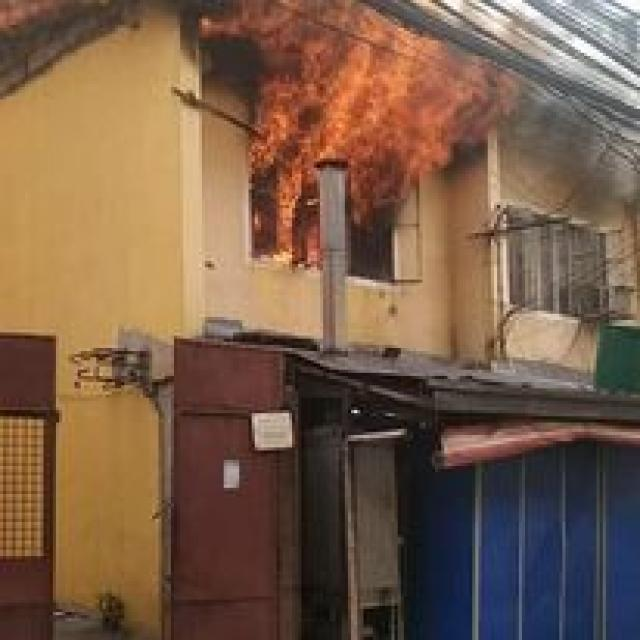Fire: (230, 0, 503, 264)
